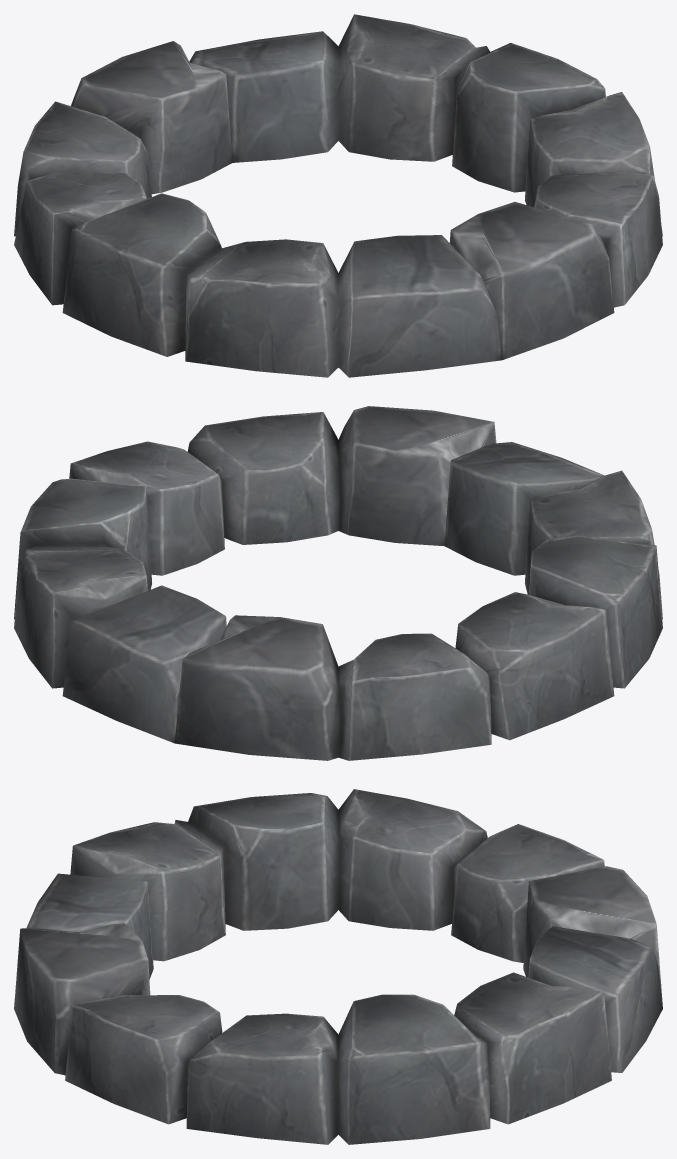
File: Pavement03.FBX
The picture shows the model from 3 angles, top to bottom: view 1: azimuth 30°, elevation 25°; view 2: azimuth 150°, elevation 25°; view 3: azimuth 270°, elevation 25°; orthographic projection.
Visible parts, largest first — view 1: Pavement03; view 2: Pavement03; view 3: Pavement03.
Boxes of the visible parts, bbox=[...] form: Pavement03: bbox=[14, 14, 662, 377]; Pavement03: bbox=[14, 406, 662, 760]; Pavement03: bbox=[14, 789, 662, 1144].
Size of the model in its own units: 3.84 by 3.87 by 0.677.
